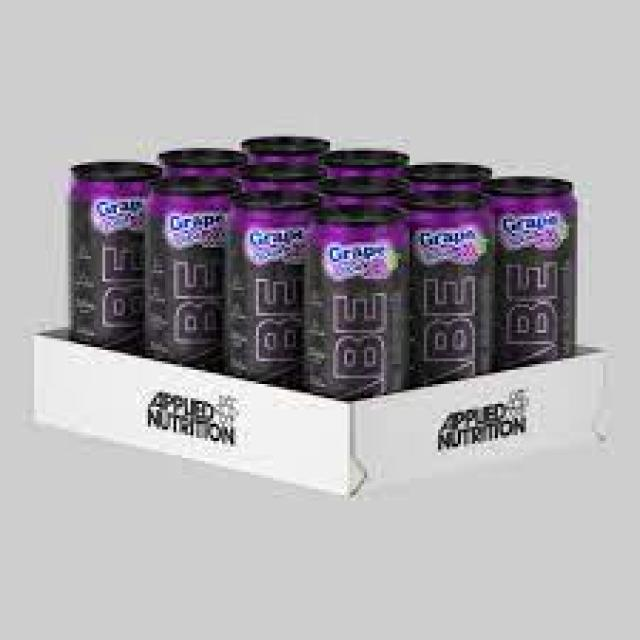Cans: (293, 199, 407, 395), (404, 188, 498, 381), (484, 174, 580, 361), (145, 168, 233, 367), (62, 154, 150, 352), (228, 191, 316, 384)
